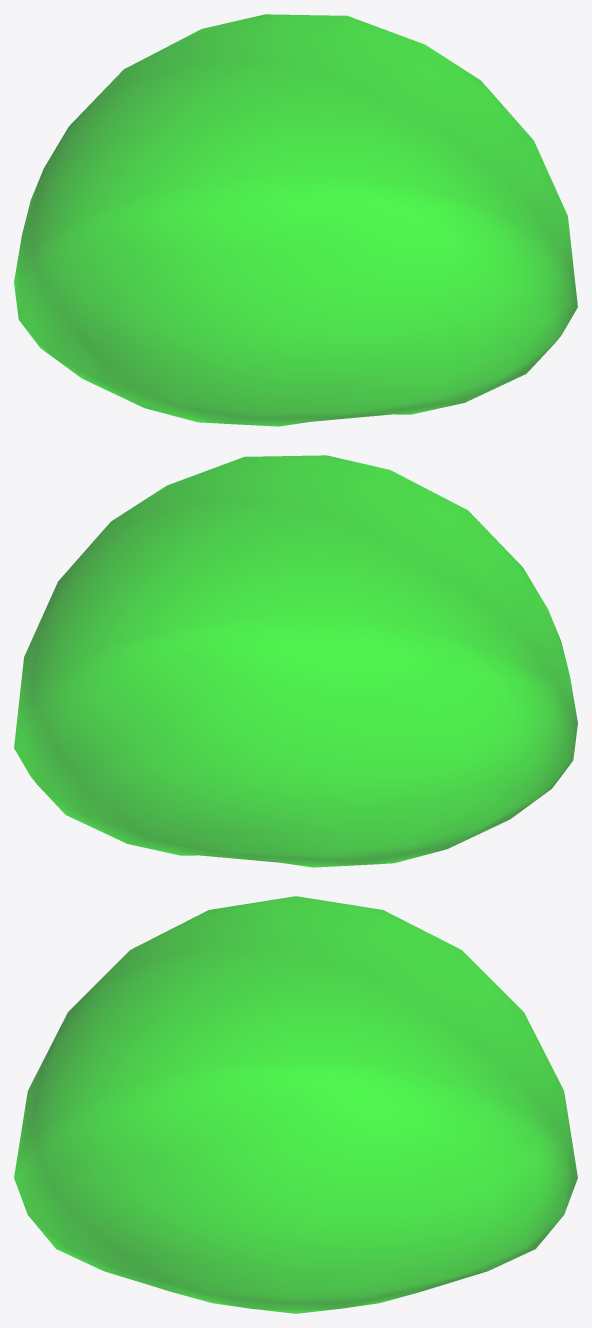
File: slime_base.glb
3 renders of one model, top to bottom at view 1: azimuth 30°, elevation 25°; view 2: azimuth 150°, elevation 25°; view 3: azimuth 270°, elevation 25°, orthographic.
Parts seen in each view (by area): view 1: Icosphere; view 2: Icosphere; view 3: Icosphere.
Boxes of the visible parts, x1=… form: Icosphere: x1=14, y1=14, x2=577, y2=426; Icosphere: x1=14, y1=455, x2=577, y2=867; Icosphere: x1=14, y1=896, x2=577, y2=1313.
Bounding box in the file's own units: 2 × 1.2 × 2.
